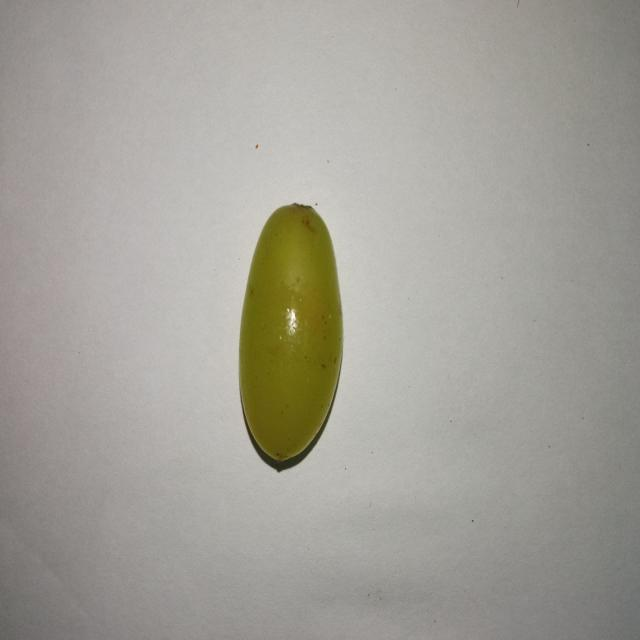fresh_grape: (242, 208, 339, 458)
